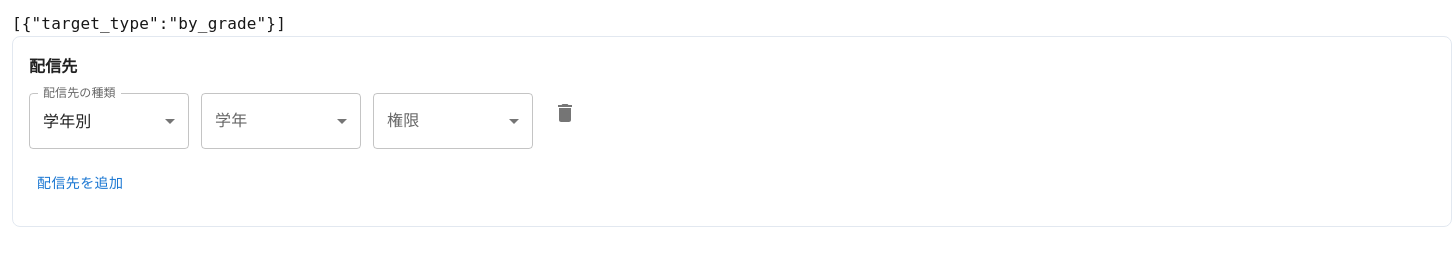
TargetPicker › own_grade_restrictionがある場合、配信先の種類は「学年別」「個人」のみ選択できる
Press the mouse on the dropdown named "配信先の種類" at (67, 121), box top-left (43, 112), bottom-right (92, 130)
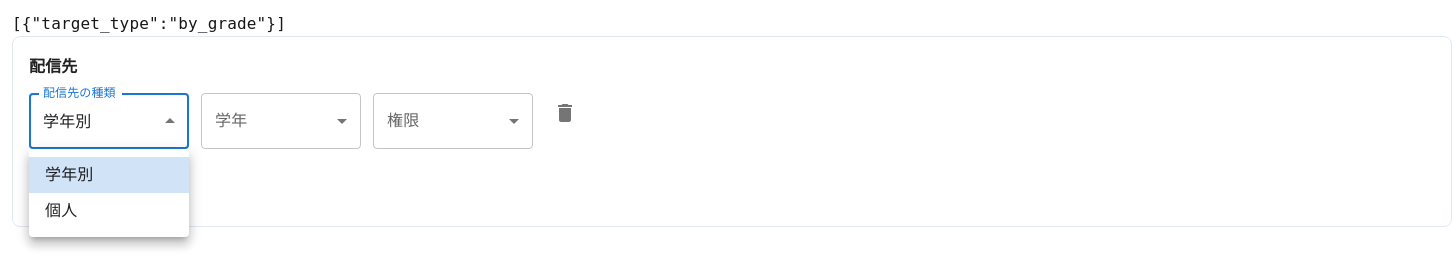
Check: the option "学年別" is shown, box top-left (29, 157), bottom-right (189, 193)
Check: the option "個人" is shown, box top-left (45, 201), bottom-right (77, 220)
